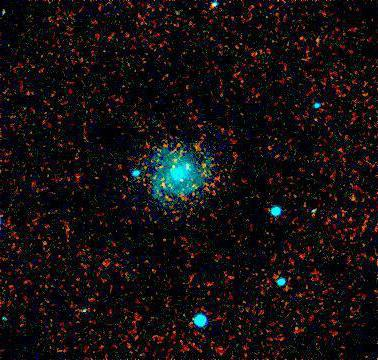star: (166, 152, 196, 182)
